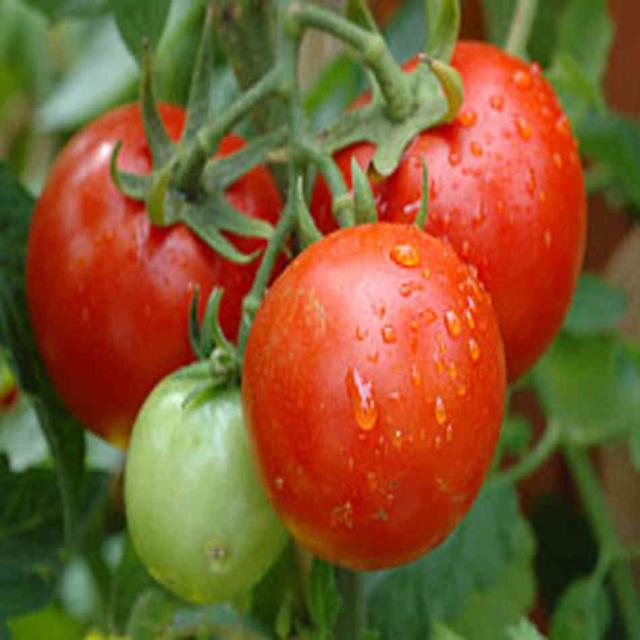tomato: (244, 184, 503, 569), (26, 86, 284, 410)
